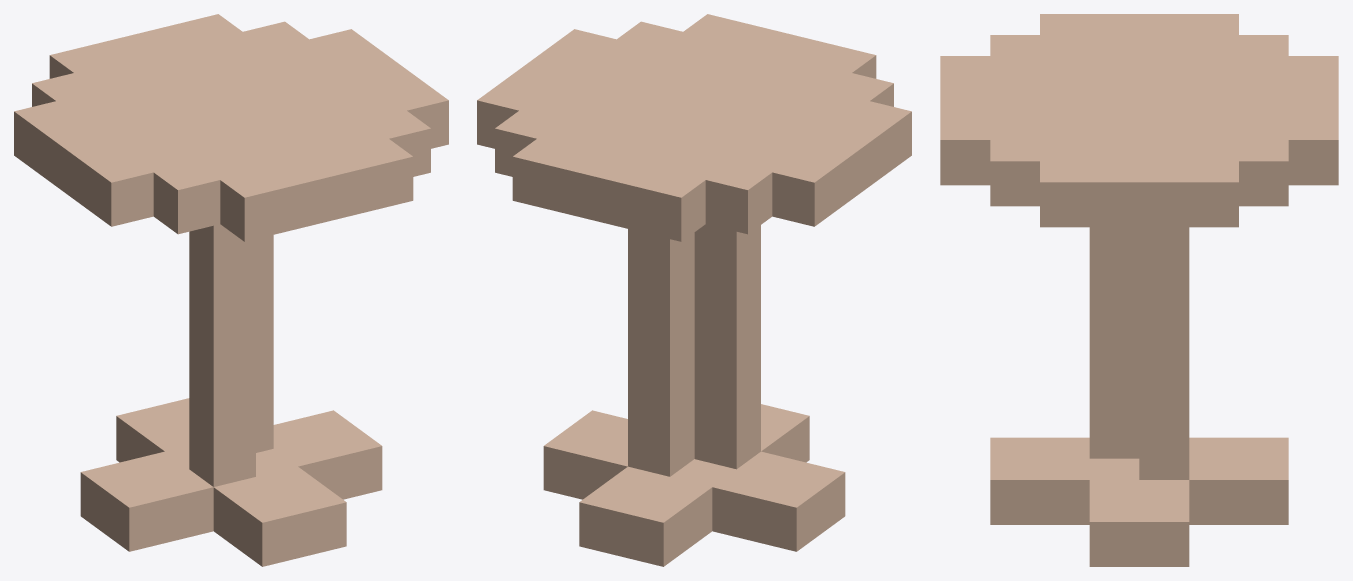
The model's file is stolikokragly.dae.
3 renders of one model, left to right at view 1: azimuth 30°, elevation 25°; view 2: azimuth 150°, elevation 25°; view 3: azimuth 270°, elevation 25°, orthographic. The views are drawn at different scales.
Visible parts, largest first — view 1: stolikokragly; view 2: stolikokragly; view 3: stolikokragly.
Part boxes in pixels (box(x1,y1,x2,y2)): stolikokragly: box(14, 14, 448, 566); stolikokragly: box(477, 14, 911, 566); stolikokragly: box(940, 14, 1338, 566).
Size of the model in its own units: 8 by 9 by 8.
Materials: 1 (1 with a texture image).
